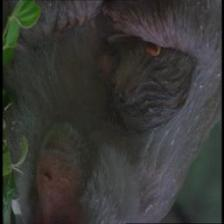monkey: (12, 106, 88, 222), (92, 37, 132, 121)
